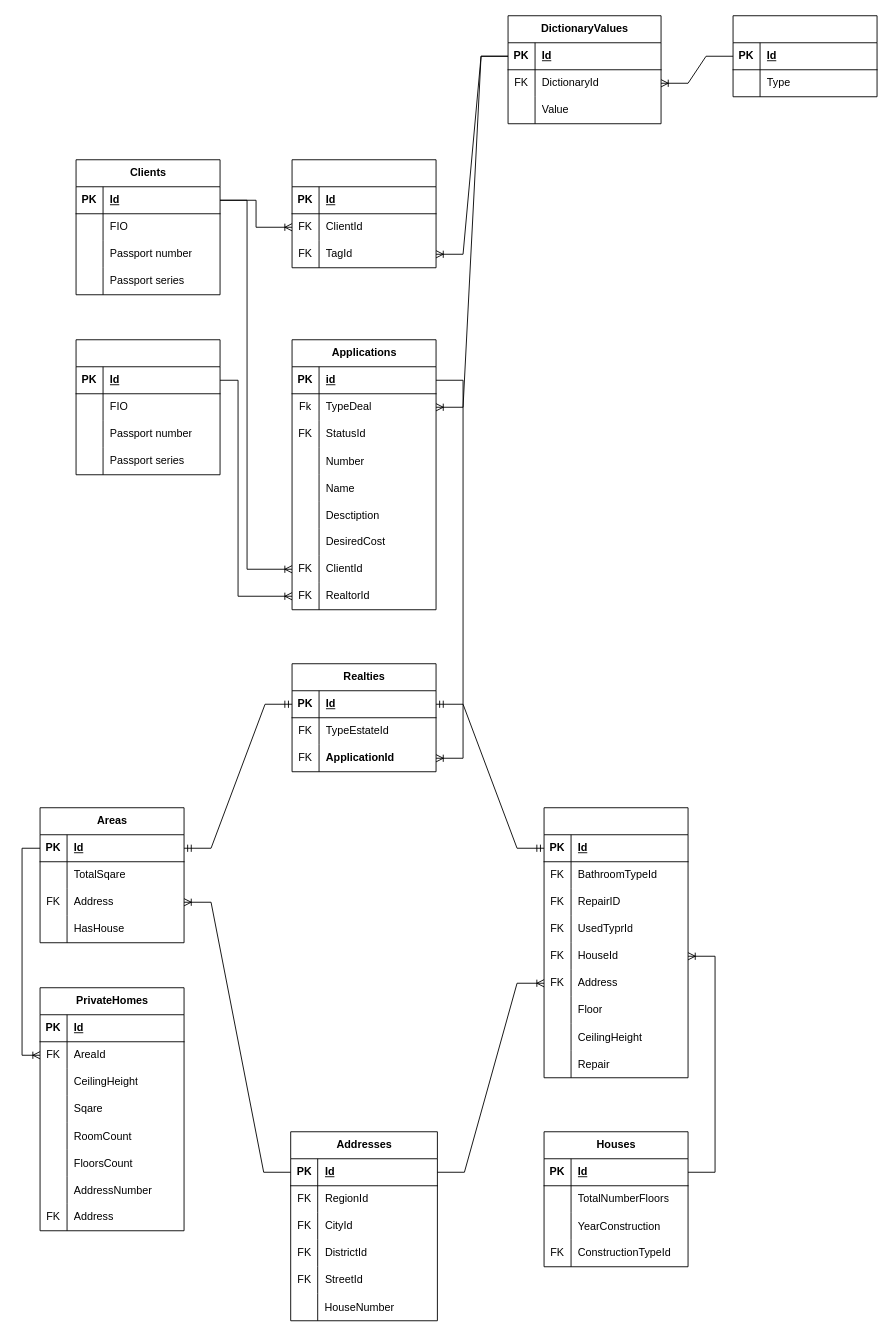
This 893x1337 diagram has some shape labels left out. The box of each missing label's shape, as (x1, y1, x2, y2) in pixels:
ClientTags: (291, 159, 436, 268)
Dictionaries: (732, 15, 877, 97)
Flats: (543, 807, 688, 1078)
Realtors: (75, 339, 220, 475)
